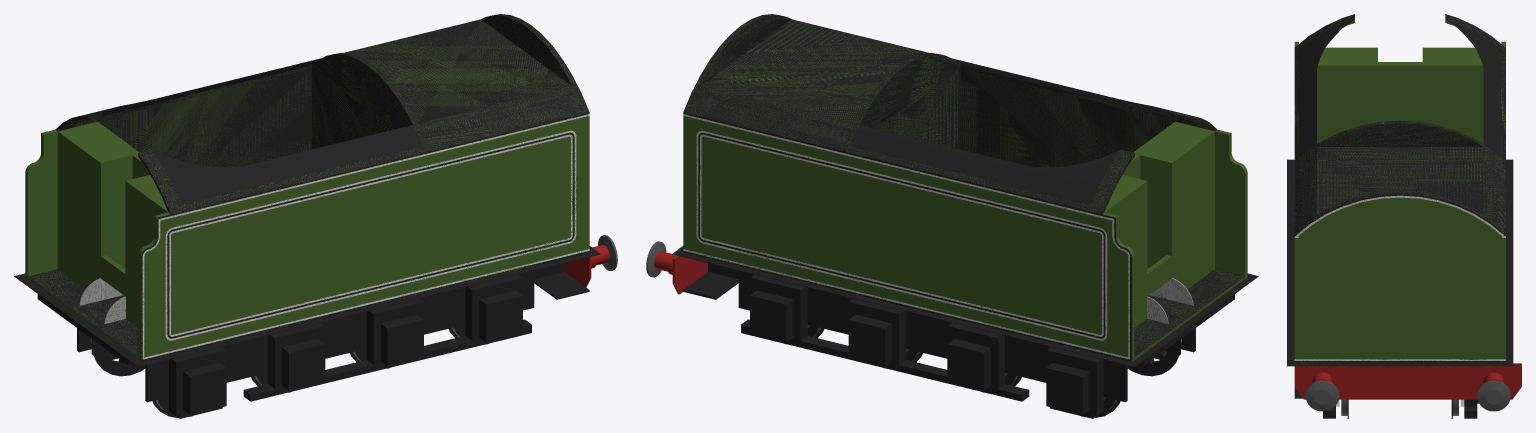
Rendered from a1_peppercorn_tender.dae.
3 renders of one model, left to right at view 1: azimuth 30°, elevation 25°; view 2: azimuth 150°, elevation 25°; view 3: azimuth 270°, elevation 25°, orthographic. The views are drawn at different scales.
Parts seen in each view (by area): view 1: group_2 (×11), group_1 (×5), group_3 (×2), group_8, BOGEY_REAR_WHEEL, group_5; view 2: group_2 (×11), group_1 (×5), group_3 (×2), group_5, group_9, BOGEY_REAR_WHEEL; view 3: group_2 (×6), group_5, group_3, group_7, group_6, group_1.
Part boxes in pixels (<box>): group_2 (×11): <box>25,14,589,361</box>; group_1 (×5): <box>145,270,534,418</box>; group_3 (×2): <box>14,246,600,366</box>; group_8: <box>534,272,589,299</box>; BOGEY_REAR_WHEEL: <box>91,339,145,376</box>; group_5: <box>564,257,591,287</box>; group_2 (×11): <box>683,14,1247,361</box>; group_1 (×5): <box>738,270,1127,418</box>; group_3 (×2): <box>672,246,1258,366</box>; group_5: <box>672,255,707,294</box>; group_9: <box>683,272,738,299</box>; BOGEY_REAR_WHEEL: <box>1127,339,1181,376</box>; group_2 (×6): <box>1294,14,1505,362</box>; group_5: <box>1294,363,1521,399</box>; group_3: <box>1287,159,1513,366</box>; group_7: <box>1477,380,1510,411</box>; group_6: <box>1305,380,1339,411</box>; group_1: <box>1464,399,1477,418</box>.
Bounding box in the file's own units: 278 × 126 × 151.
